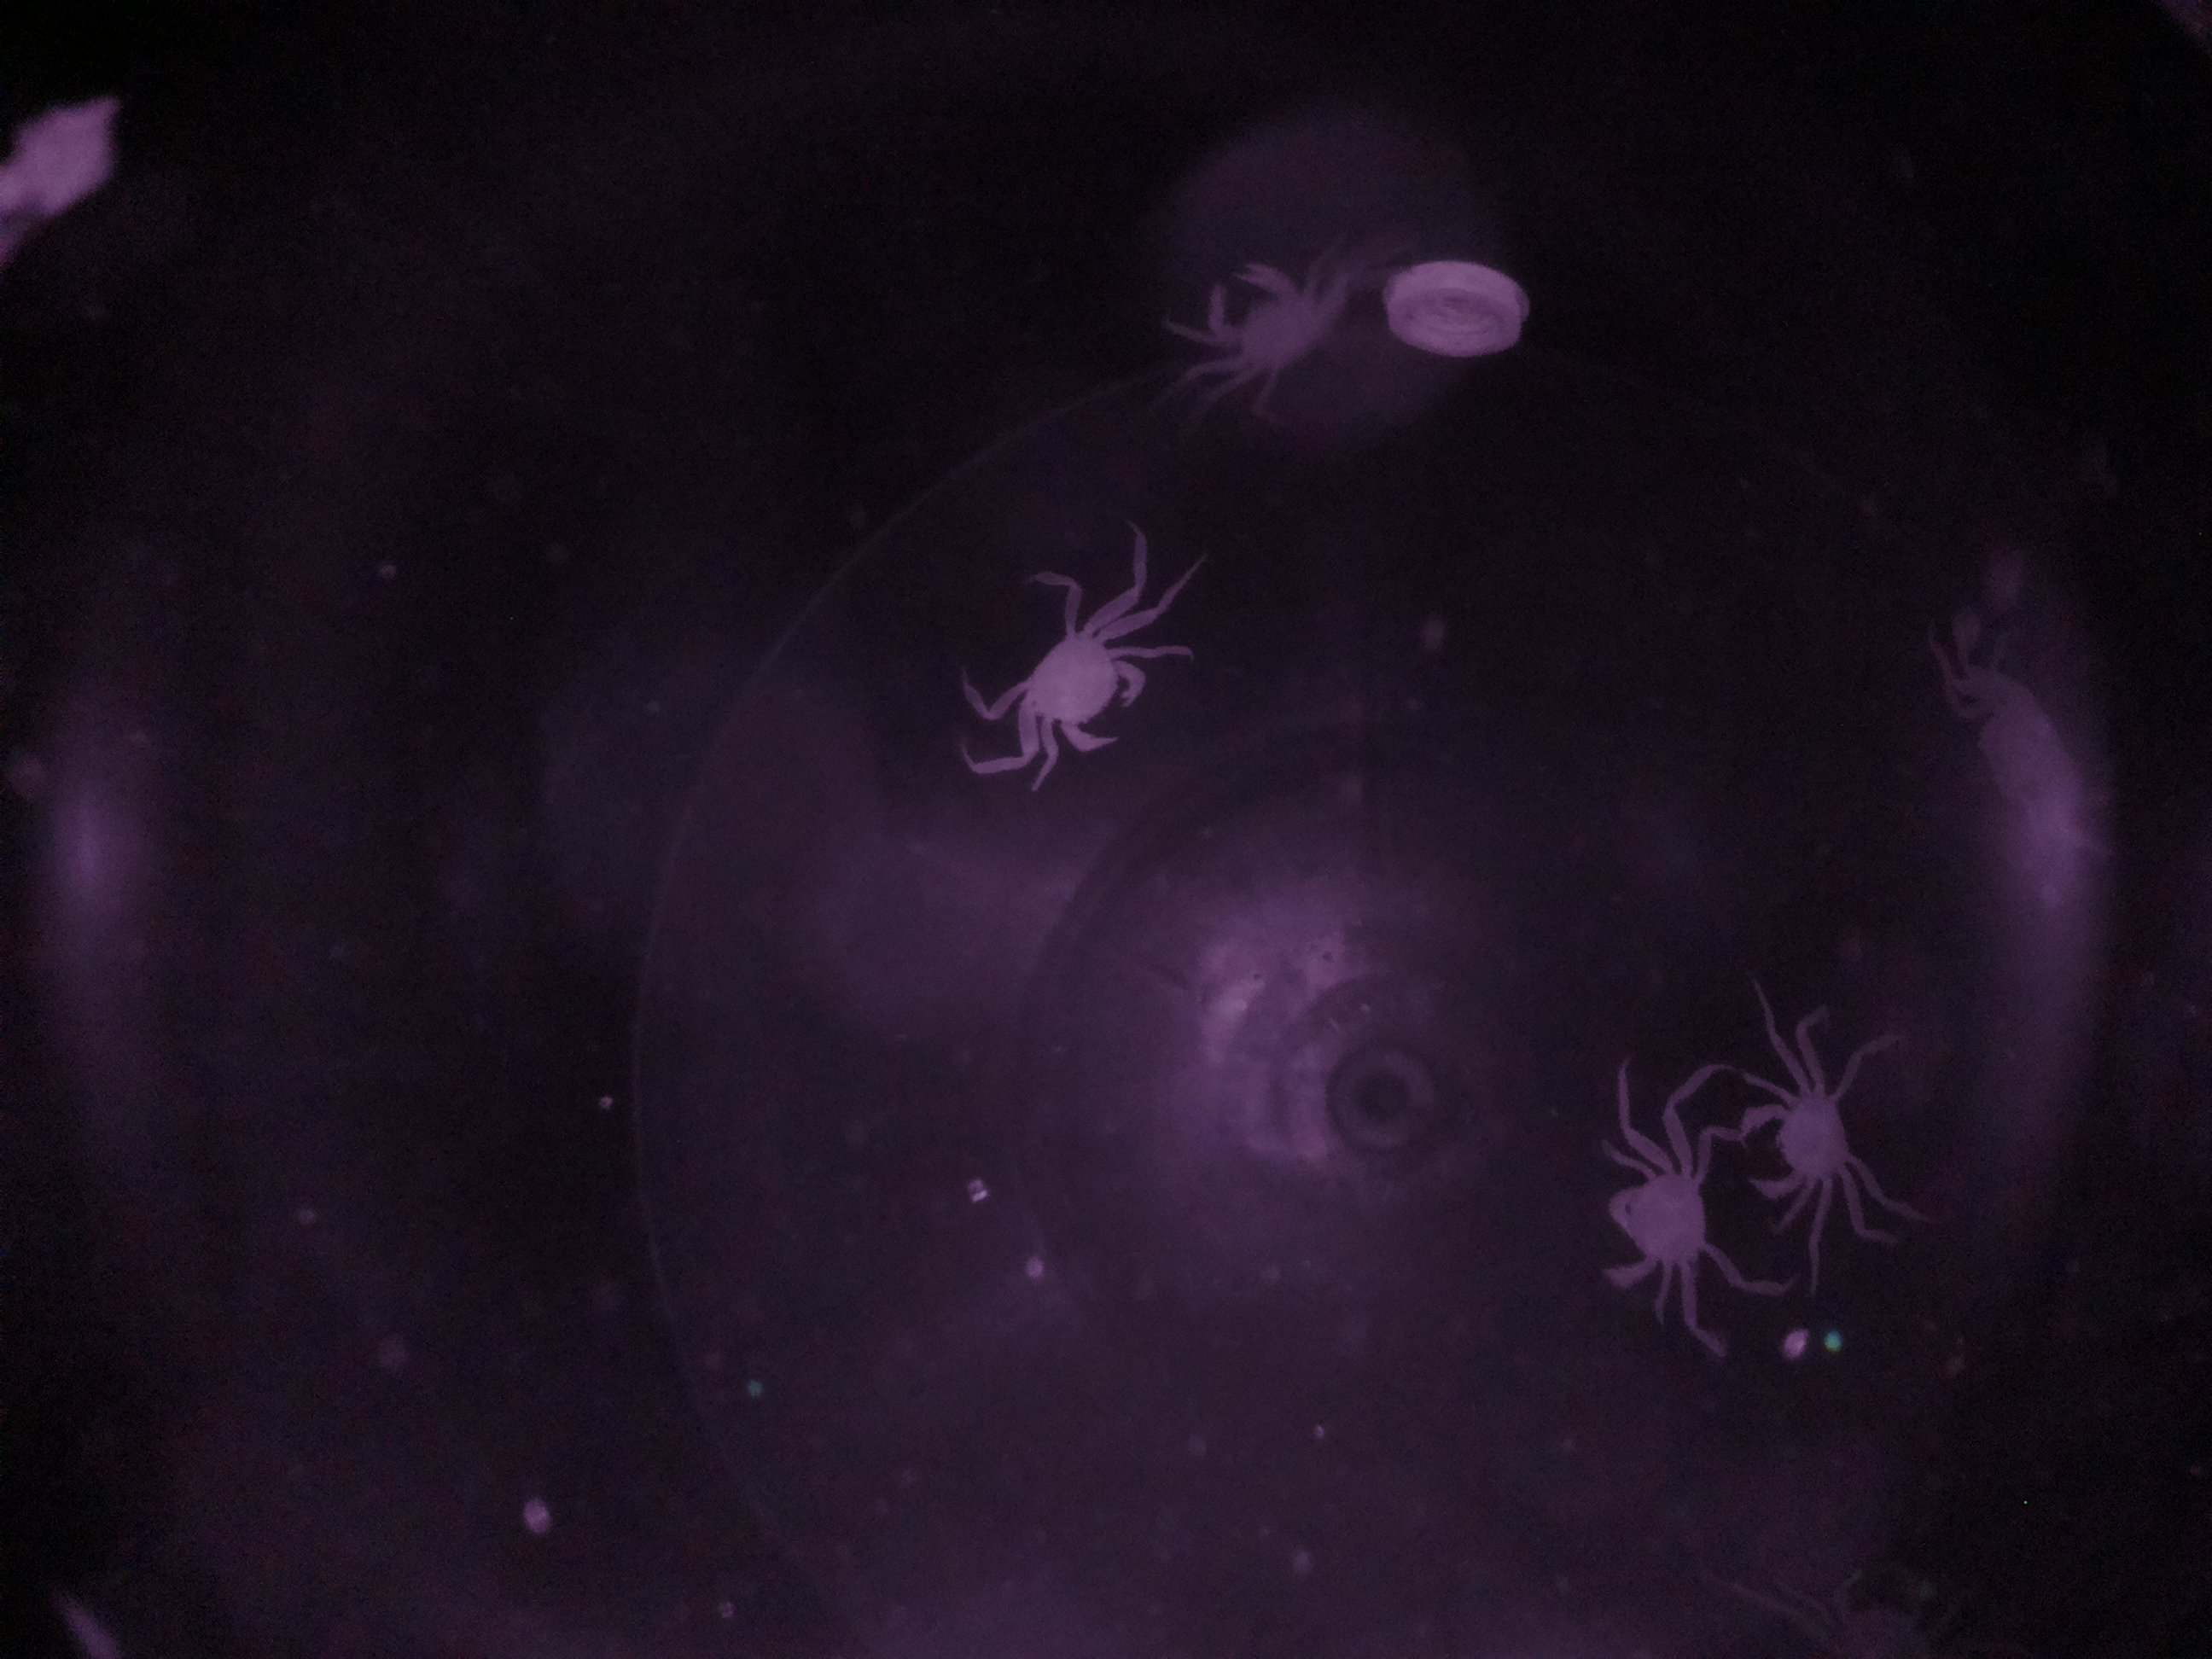Crab: (1728, 1021, 1909, 1258), (982, 589, 1167, 772), (1568, 1105, 1731, 1310), (1179, 247, 1362, 413)
